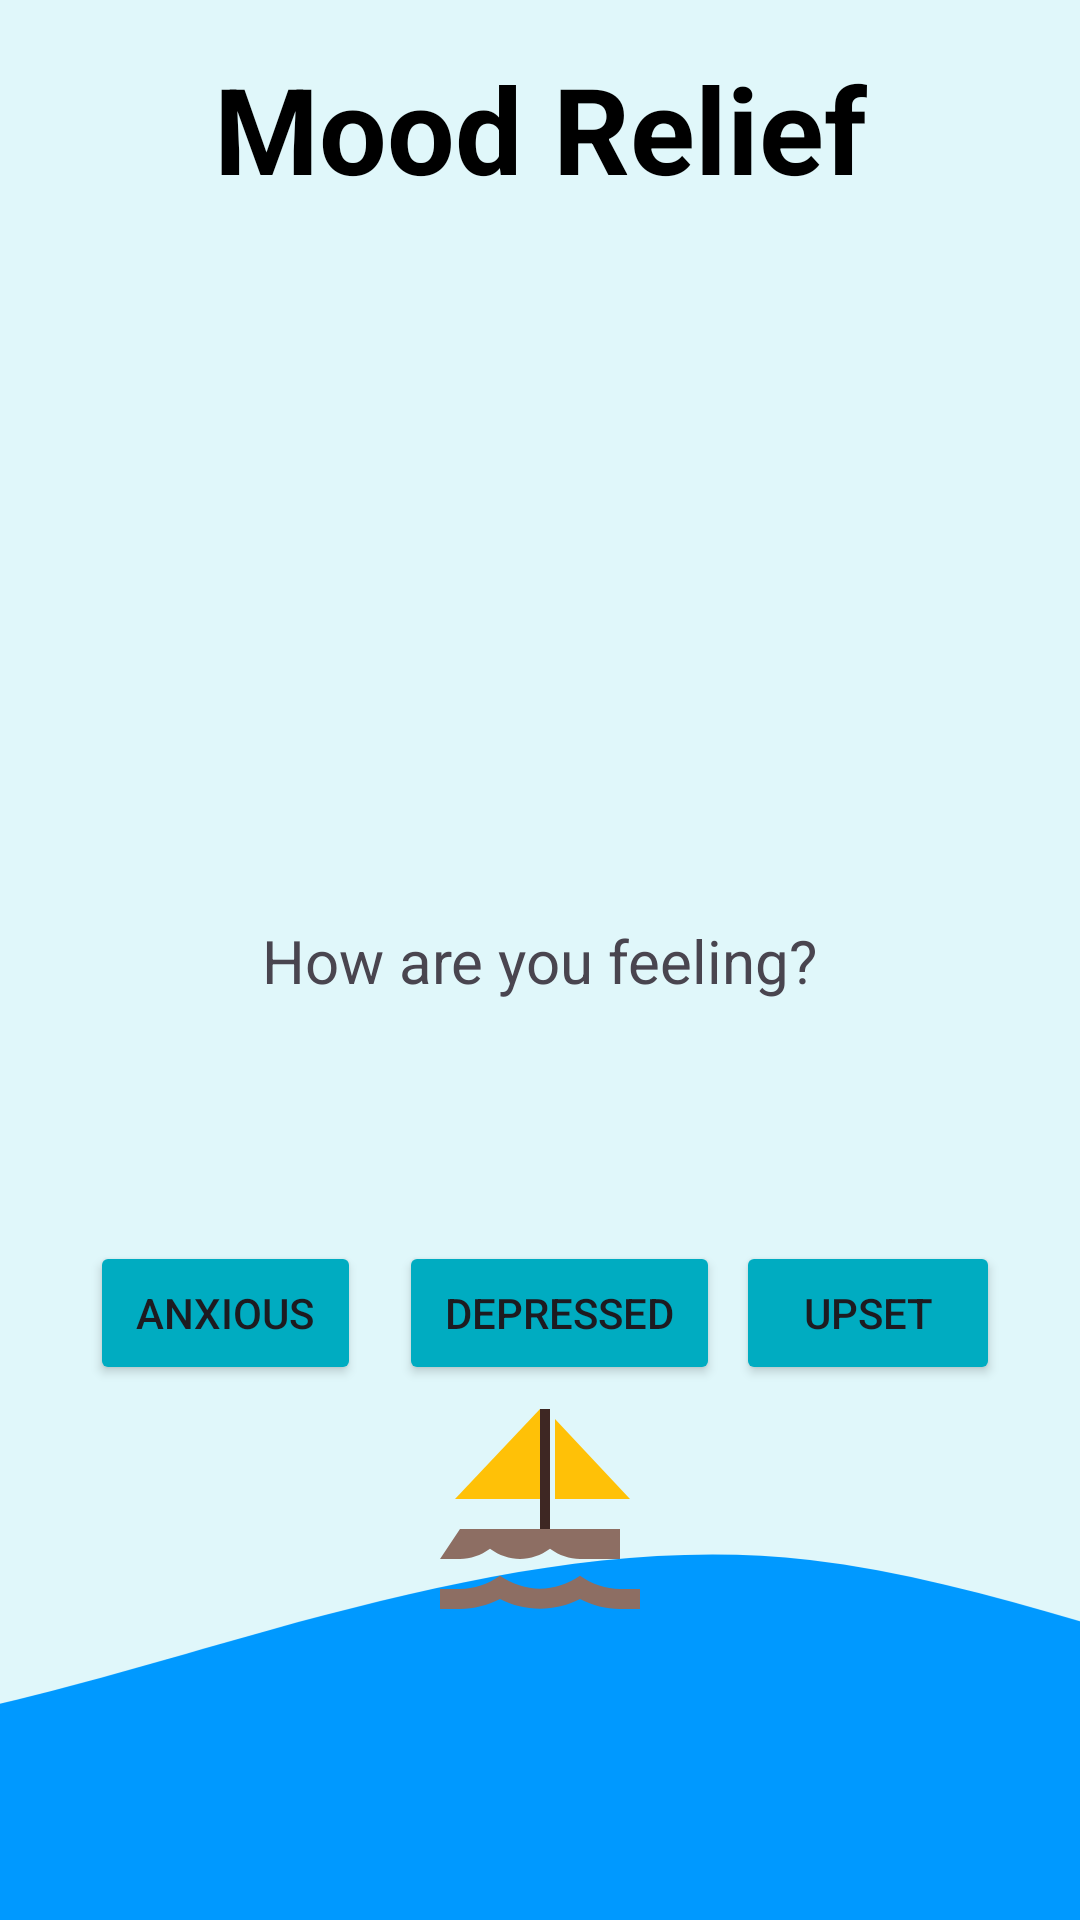

Where icons sit on this 1080w x 1920h app screen, as (x1, y1, x2, y2):
boat: (420, 1409, 660, 1619)
